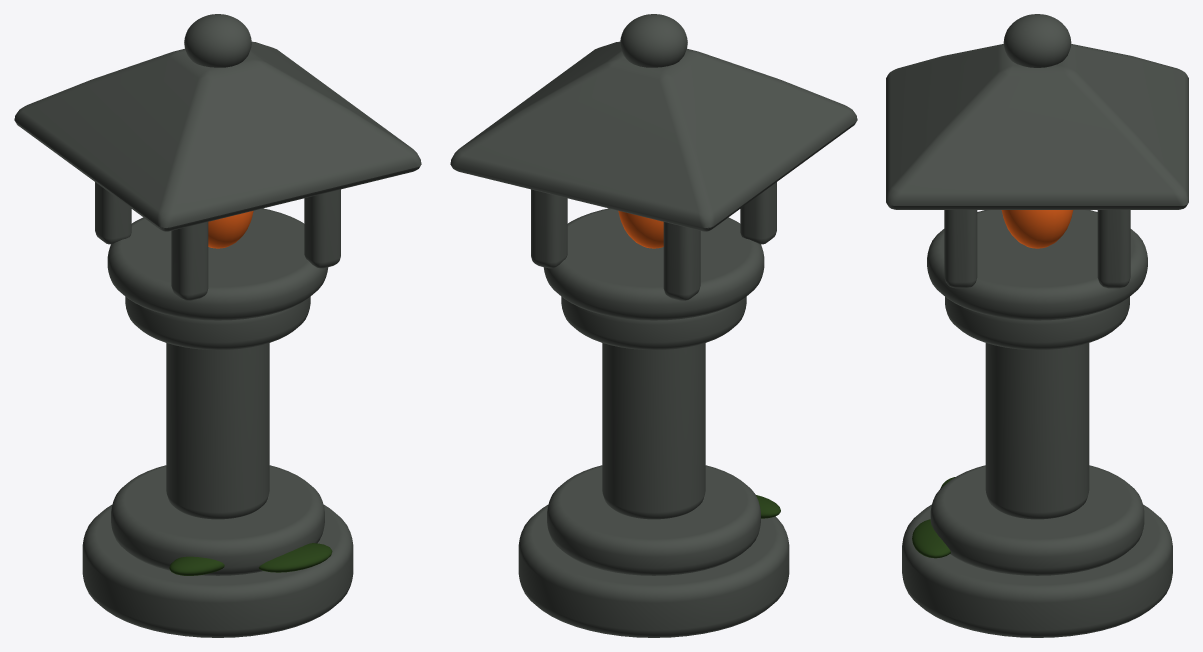
Rendered from 02_Stone_Lantern.obj.
3 views of the same model, side by side, from view 1: azimuth 30°, elevation 25°; view 2: azimuth 150°, elevation 25°; view 3: azimuth 270°, elevation 25° (orthographic).
Parts seen in each view (by area): view 1: Curved_stone_cap, Carved_pedestal, Carved_pedestal.002, Carved_pedestal.004, Carved_pedestal.001, Carved_pedestal.003, Roof_finial, Window_pillar, Window_pillar.002, Window_pillar.001, Moss_patch, Lantern_ember (+1 smaller); view 2: Curved_stone_cap, Carved_pedestal, Carved_pedestal.002, Carved_pedestal.001, Carved_pedestal.004, Carved_pedestal.003, Roof_finial, Window_pillar.001, Window_pillar.003, Window_pillar, Lantern_ember; view 3: Curved_stone_cap, Carved_pedestal, Carved_pedestal.002, Carved_pedestal.001, Carved_pedestal.004, Carved_pedestal.003, Roof_finial, Window_pillar.002, Window_pillar.003, Lantern_ember, Moss_patch.
Part boxes in pixels (x1=…): Curved_stone_cap: x1=14, y1=41, x2=421, y2=231; Carved_pedestal: x1=82, y1=505, x2=353, y2=637; Carved_pedestal.002: x1=166, y1=343, x2=269, y2=519; Carved_pedestal.004: x1=107, y1=208, x2=328, y2=320; Carved_pedestal.001: x1=111, y1=465, x2=324, y2=575; Carved_pedestal.003: x1=125, y1=296, x2=310, y2=350; Roof_finial: x1=184, y1=14, x2=251, y2=67; Window_pillar: x1=171, y1=222, x2=208, y2=300; Window_pillar.002: x1=304, y1=189, x2=340, y2=268; Window_pillar.001: x1=95, y1=182, x2=131, y2=244; Moss_patch: x1=259, y1=543, x2=332, y2=572; Lantern_ember: x1=208, y1=211, x2=253, y2=248; Curved_stone_cap: x1=450, y1=41, x2=857, y2=231; Carved_pedestal: x1=518, y1=505, x2=789, y2=637; Carved_pedestal.002: x1=602, y1=343, x2=705, y2=519; Carved_pedestal.001: x1=547, y1=465, x2=760, y2=575; Carved_pedestal.004: x1=543, y1=208, x2=764, y2=320; Carved_pedestal.003: x1=561, y1=296, x2=746, y2=350; Roof_finial: x1=620, y1=14, x2=687, y2=67; Window_pillar.001: x1=663, y1=222, x2=700, y2=300; Window_pillar.003: x1=531, y1=189, x2=567, y2=268; Window_pillar: x1=740, y1=182, x2=776, y2=244; Lantern_ember: x1=618, y1=211, x2=663, y2=248; Curved_stone_cap: x1=886, y1=44, x2=1188, y2=209; Carved_pedestal: x1=902, y1=504, x2=1172, y2=637; Carved_pedestal.002: x1=985, y1=343, x2=1089, y2=519; Carved_pedestal.001: x1=930, y1=465, x2=1144, y2=575; Carved_pedestal.004: x1=927, y1=210, x2=1147, y2=320; Carved_pedestal.003: x1=945, y1=297, x2=1129, y2=350; Roof_finial: x1=1003, y1=14, x2=1071, y2=67; Window_pillar.002: x1=944, y1=210, x2=977, y2=288; Window_pillar.003: x1=1097, y1=210, x2=1130, y2=288; Lantern_ember: x1=1001, y1=210, x2=1073, y2=248; Moss_patch: x1=912, y1=519, x2=950, y2=558.
Size of the model in its own units: 0.85 by 1.76 by 0.85.
